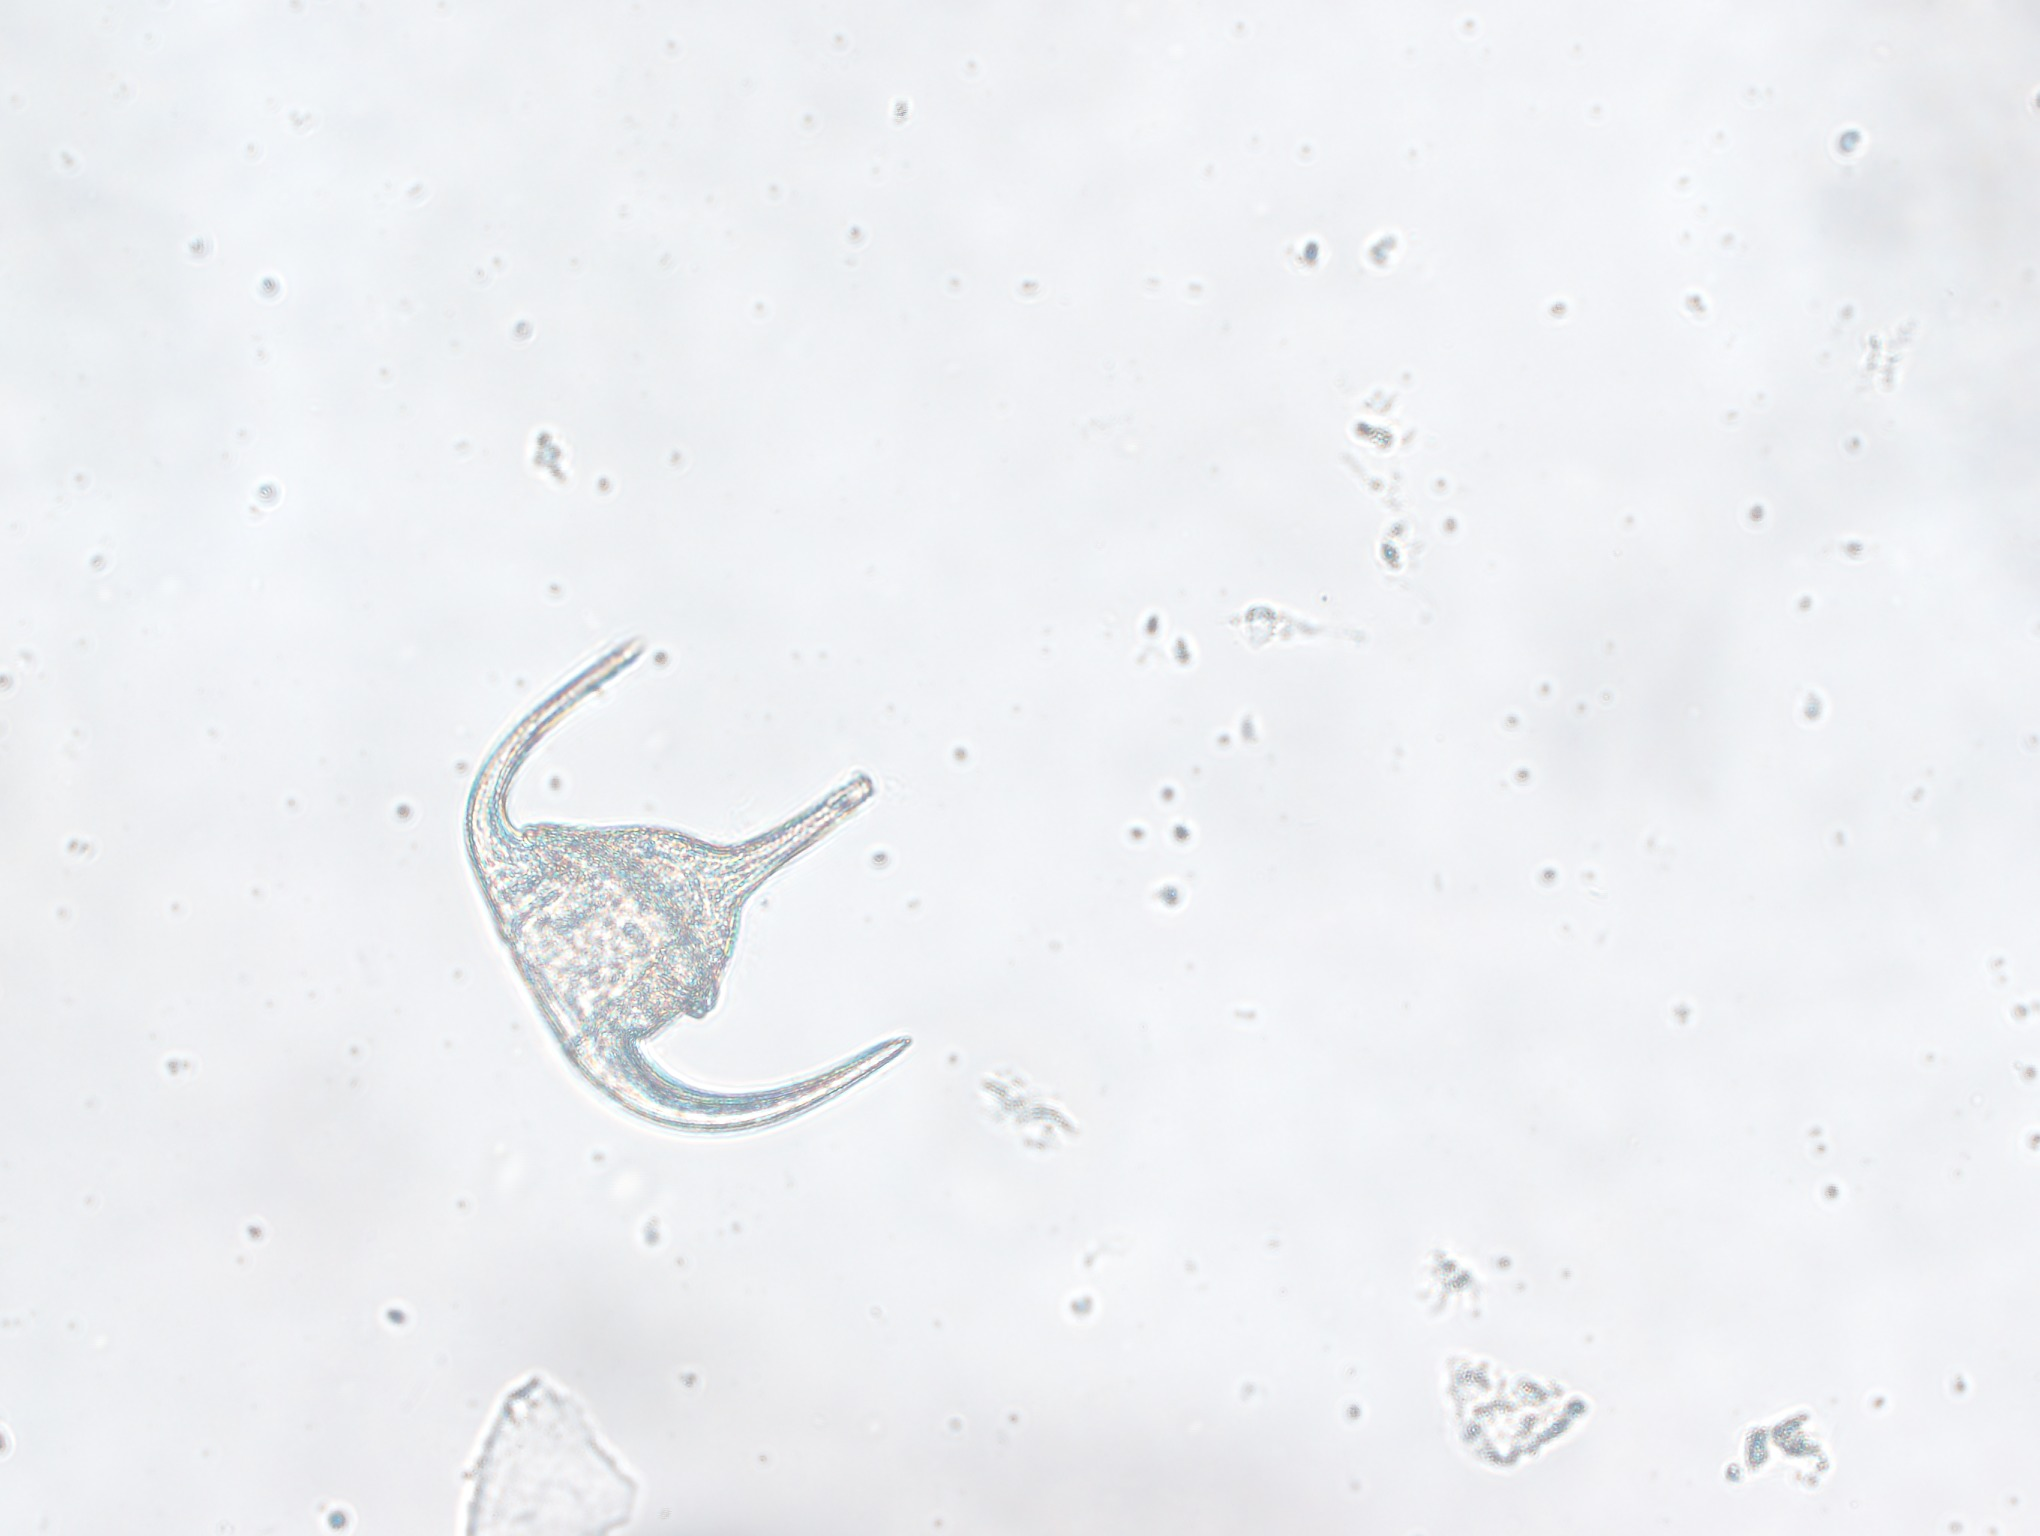ceratium tripos: (460, 615, 939, 1134)
